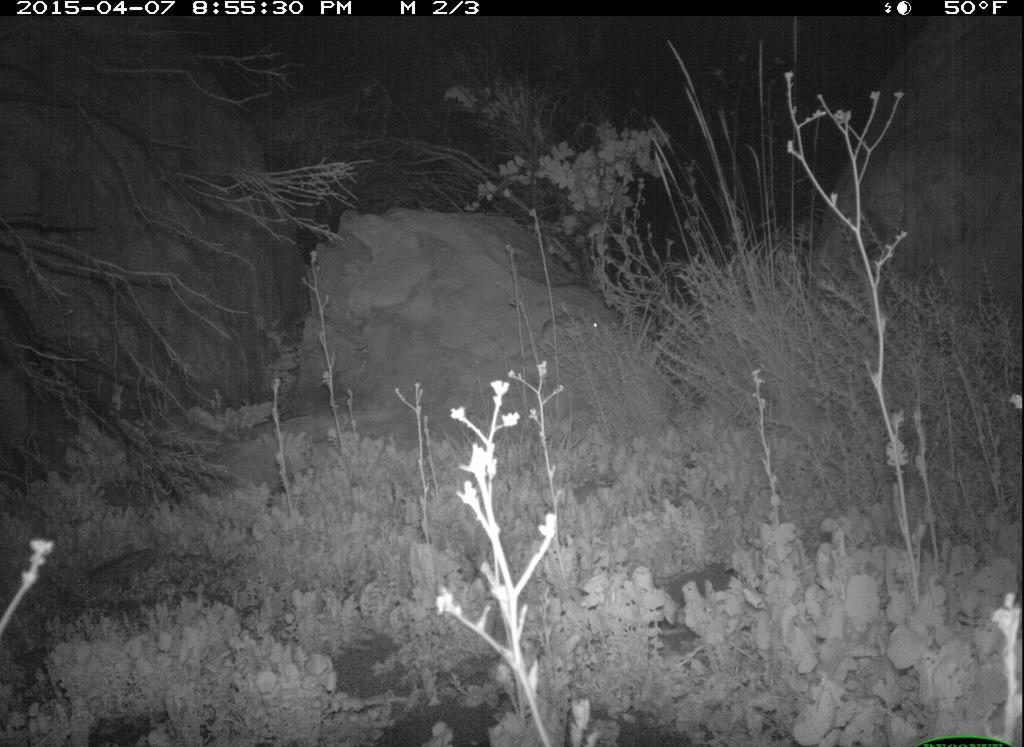rodent: (528, 308, 619, 364)
